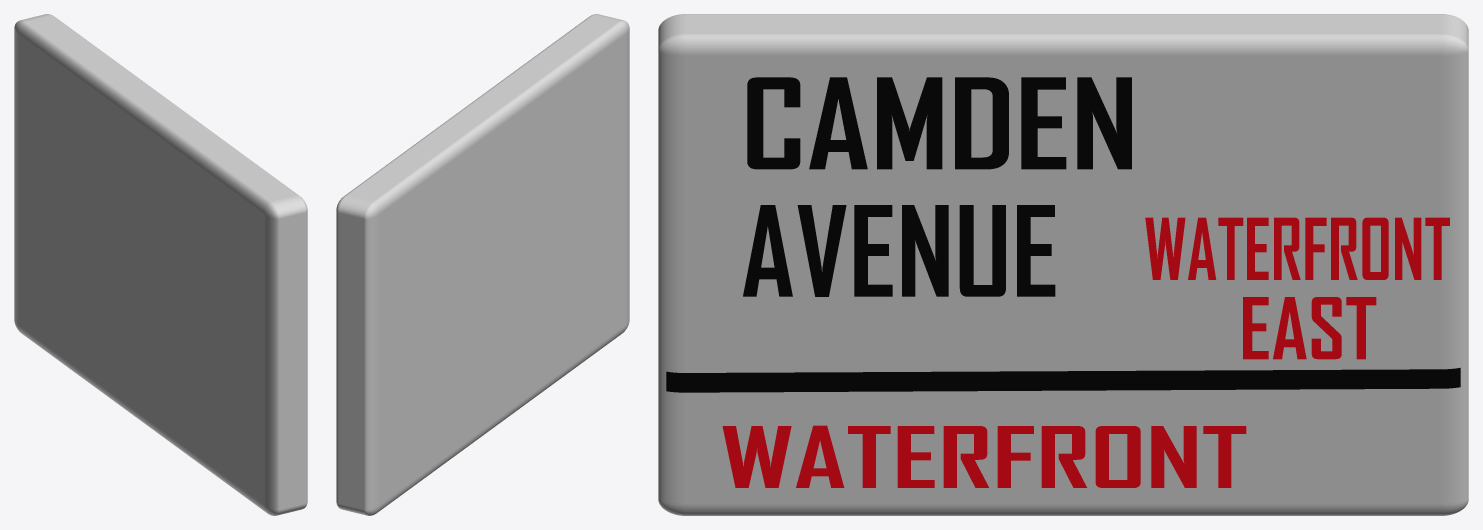
Rendered from uk_styled_street_sign_39.fbx.
The picture shows the model from 3 angles, left to right: view 1: azimuth 30°, elevation 25°; view 2: azimuth 150°, elevation 25°; view 3: azimuth 270°, elevation 25°; orthographic projection. The views are drawn at different scales.
Visible parts, largest first — view 1: Cube; view 2: Cube; view 3: Cube, Text, Text.002, Text.001, Text.003, Text.004.
Boxes of the visible parts, x1=… form: Cube: x1=14, y1=14, x2=307, y2=515; Cube: x1=336, y1=14, x2=629, y2=515; Cube: x1=658, y1=14, x2=1468, y2=515; Text: x1=747, y1=77, x2=1131, y2=169; Text.002: x1=722, y1=425, x2=1246, y2=487; Text.001: x1=743, y1=205, x2=1055, y2=296; Text.003: x1=1145, y1=217, x2=1449, y2=279; Text.004: x1=1243, y1=297, x2=1376, y2=359.
Size of the model in its own units: 1.63 by 11.91 by 18.18.
